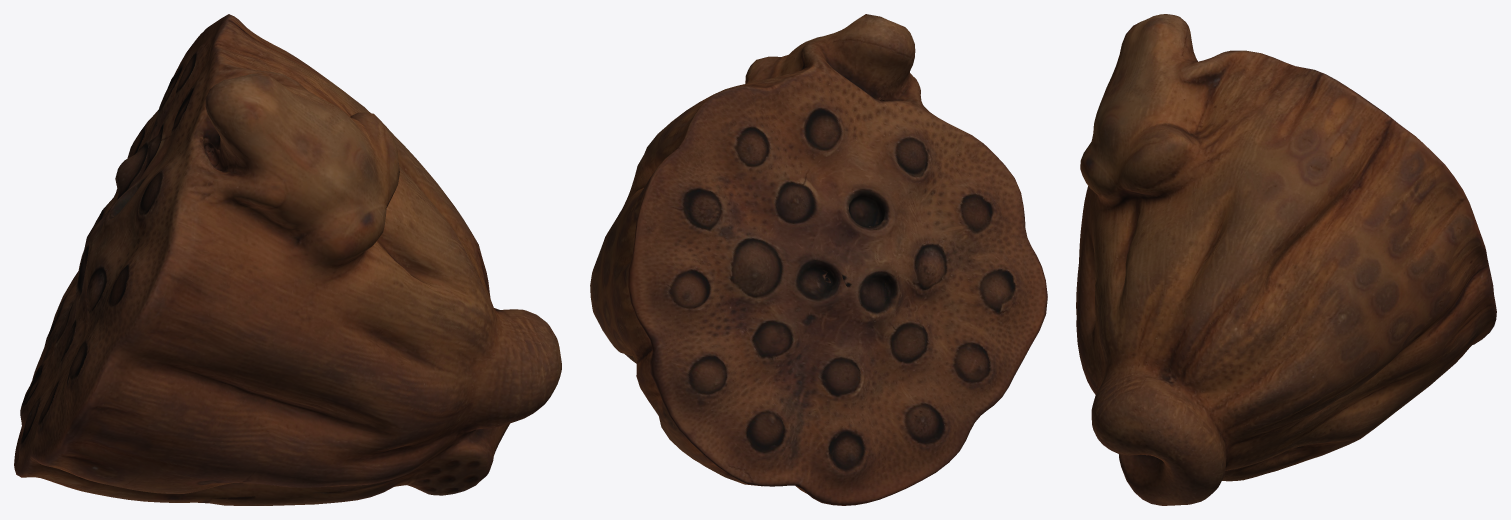
The picture shows the model from 3 angles, left to right: view 1: azimuth 30°, elevation 25°; view 2: azimuth 150°, elevation 25°; view 3: azimuth 270°, elevation 25°; orthographic projection. The views are drawn at different scales.
Parts seen in each view (by area): view 1: testResult; view 2: testResult; view 3: testResult.
Part boxes in pixels (left/top/right/bottom): testResult: left=14, top=14, right=561, bottom=505; testResult: left=590, top=14, right=1047, bottom=505; testResult: left=1076, top=14, right=1496, bottom=505.
Bounding box in the file's own units: 2647 × 2411 × 2275.
1 material, 1 textured.
